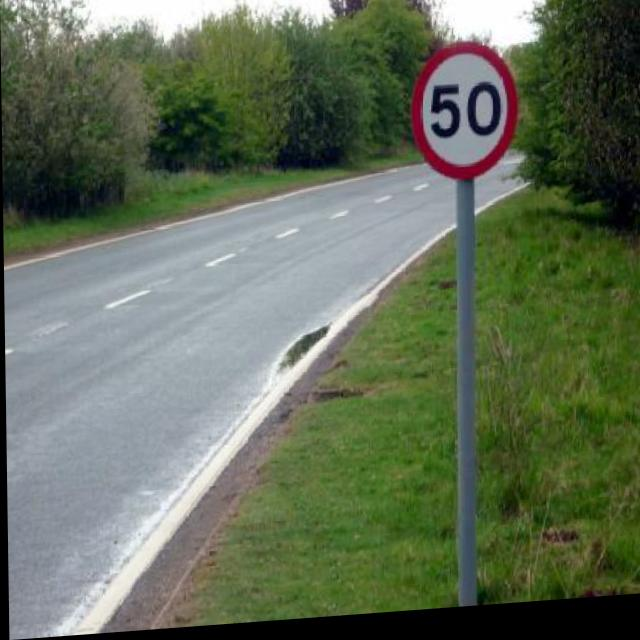Speed limit 50: (408, 46, 517, 192)
